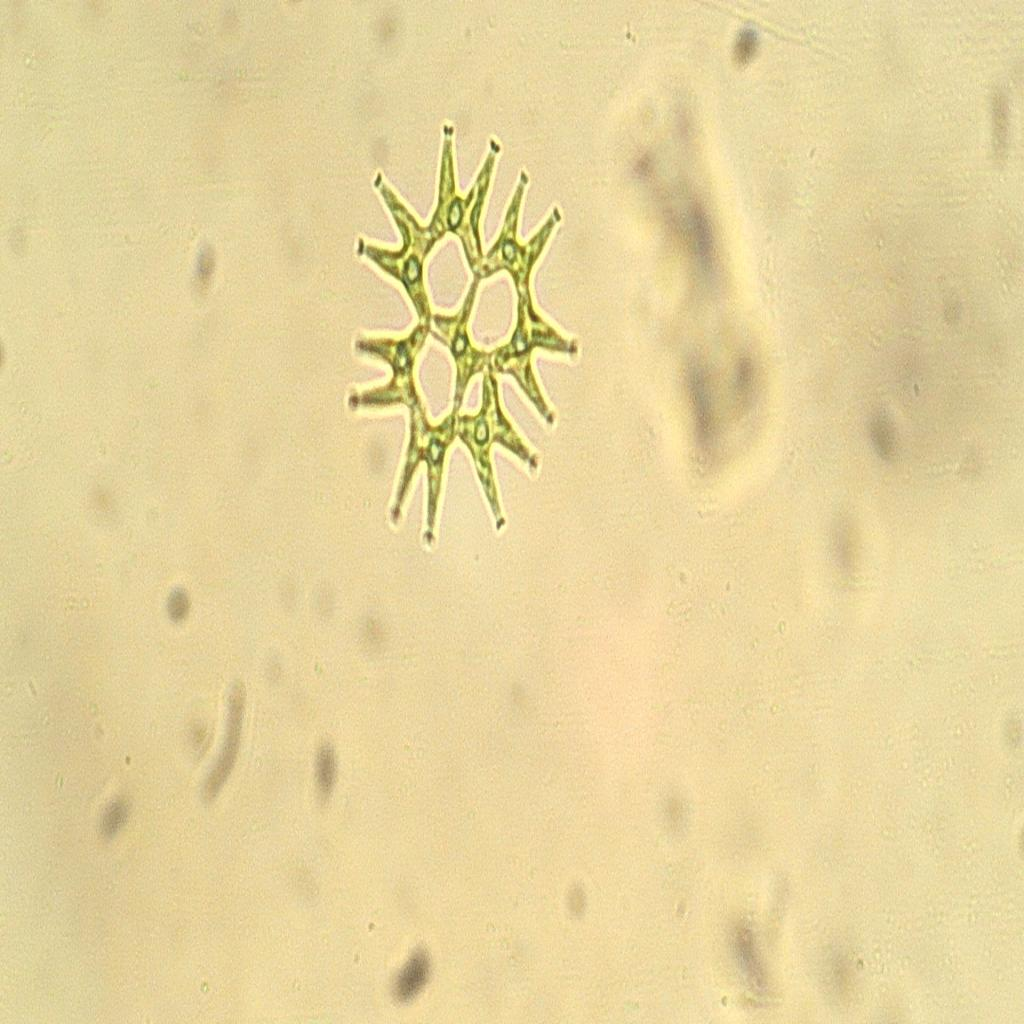Pediastrum_CTH: (328, 92, 590, 570)
